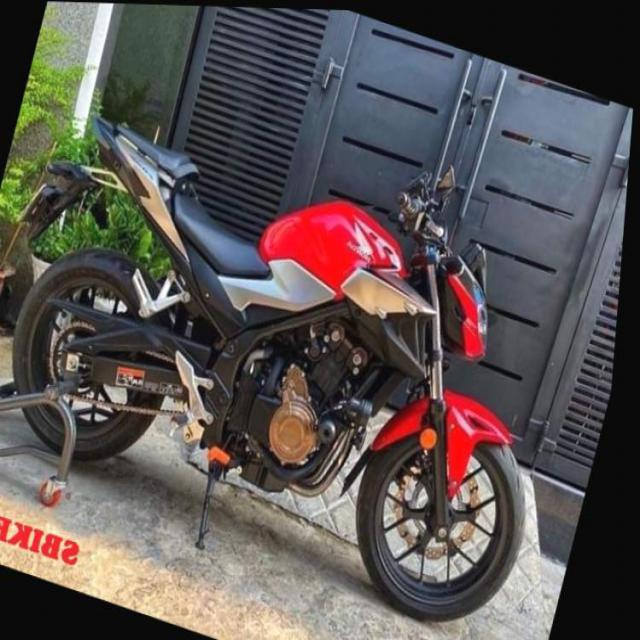CB500F: (0, 94, 604, 639)
